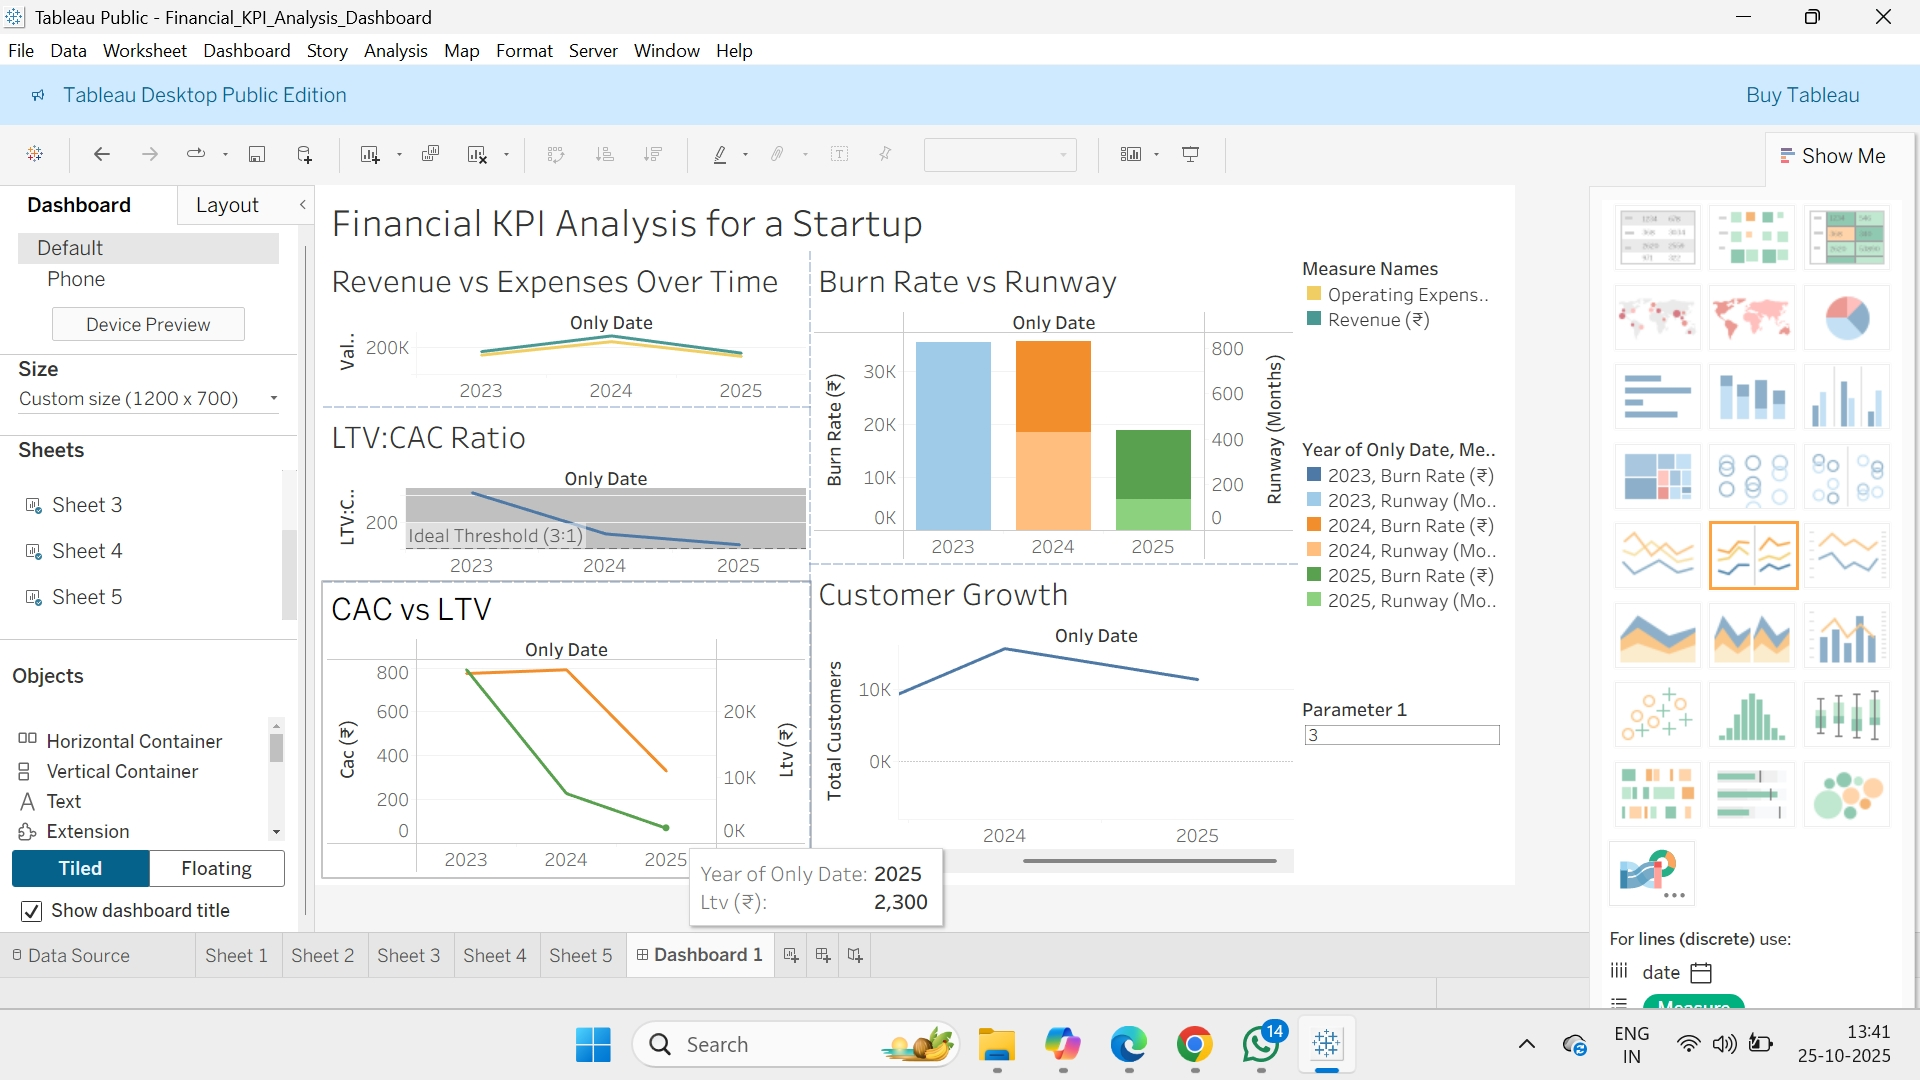

Layout of this report page (visuals, bound fields, positions):
{"tool":"tableau","page":{"name":"Dashboard 1","canvas":[1200,700],"ordinal":0},"visuals":[{"type":"title","box":[8,8,1184,58]},{"type":"worksheet","title":"Sheet 1","mark":"Automatic","cols":["Only Date"],"box":[8,66,487.4,156.5]},{"type":"worksheet","title":"Sheet 3","mark":"Bar","rows":["Burn Rate (₹)","Runway (Months)"],"cols":["Only Date"],"box":[495.4,66,487.6,313]},{"type":"legend","title":"Sheet 1","param":"[federated.03j3kmv05yj77o14gxv4c1spcrk3].[:Measure Names]","box":[983,66,209,181]},{"type":"worksheet","title":"Sheet 5","mark":"Automatic","rows":["Calculation_711568808902447104"],"cols":["Only Date"],"box":[8,222.5,487.4,174.5]},{"type":"legend","title":"Sheet 3","param":"[federated.03j3kmv05yj77o14gxv4c1spcrk3].[yr:Only Date:ok]\n[federated.03j3kmv05y","box":[983,247,209,260]},{"type":"worksheet","title":"Sheet 4","mark":"Automatic","rows":["Total Customers"],"cols":["Only Date"],"box":[495.4,379,487.6,313]},{"type":"worksheet","title":"Sheet 2","mark":"Automatic","rows":["CAC (₹)","LTV (₹)"],"cols":["Only Date"],"box":[8,397,487.4,295]},{"type":"parameter","param":"[Parameters].[Parameter 1]","box":[983,507,209,60]}]}

Visuals, with their boxes on the page's 1200x700 design canvas (x1, y1, x2, y2). These are canvas units, not pixel positions in the 1920x1080 screenshot, which may show the page scaled, cropped or inside an application window:
title: (left=8, top=8, right=1192, bottom=66)
"Sheet 1" worksheet: (left=8, top=66, right=495, bottom=222)
"Sheet 3" worksheet (Bar marks): (left=495, top=66, right=983, bottom=379)
"Sheet 1" legend: (left=983, top=66, right=1192, bottom=247)
"Sheet 5" worksheet: (left=8, top=222, right=495, bottom=397)
"Sheet 3" legend: (left=983, top=247, right=1192, bottom=507)
"Sheet 4" worksheet: (left=495, top=379, right=983, bottom=692)
"Sheet 2" worksheet: (left=8, top=397, right=495, bottom=692)
parameter: (left=983, top=507, right=1192, bottom=567)
